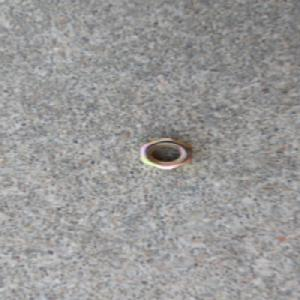Nut: (138, 137, 194, 172)
